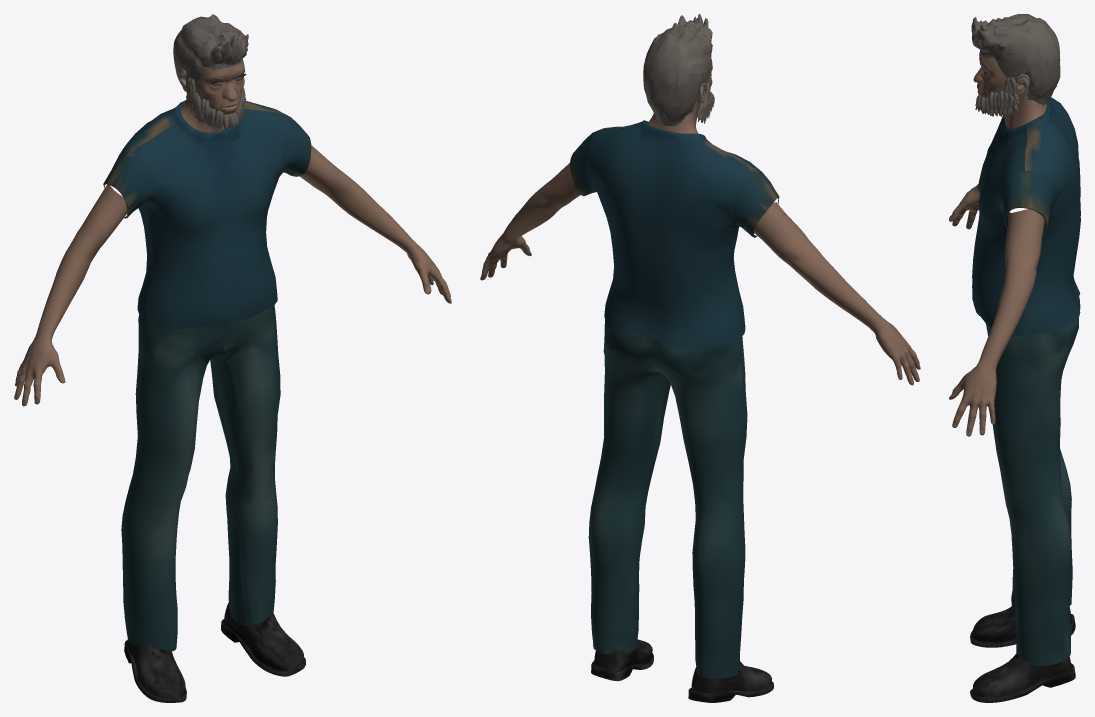
Rendered from 2635-People-cast-cooked-mh-67.glb.
3 views of the same model, side by side, from view 1: azimuth 30°, elevation 25°; view 2: azimuth 150°, elevation 25°; view 3: azimuth 270°, elevation 25° (orthographic).
Visible parts, largest first — view 1: People: cast (cooked)/mh_67; view 2: People: cast (cooked)/mh_67; view 3: People: cast (cooked)/mh_67.
Part boxes in pixels (x1=…): People: cast (cooked)/mh_67: x1=14, y1=14, x2=451, y2=702; People: cast (cooked)/mh_67: x1=480, y1=14, x2=920, y2=702; People: cast (cooked)/mh_67: x1=949, y1=14, x2=1080, y2=702.
Bounding box in the file's own units: 1.33 × 1.94 × 0.3549.
